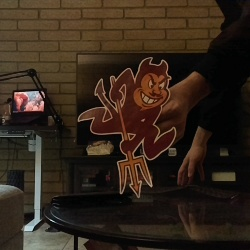sparky: (76, 56, 177, 198)
